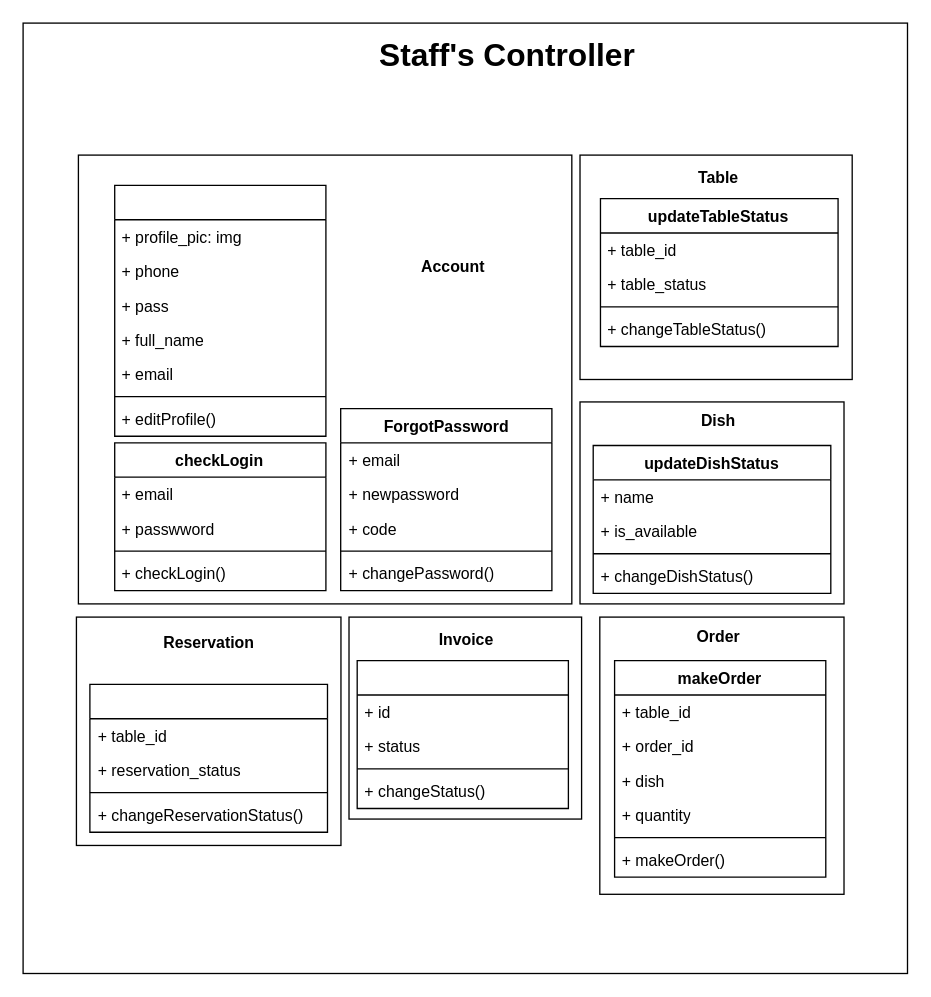
Image size: 931x997. Some labels were removed from this diagram. The shapes that lost their labels are listed below. From the top down, each one's box as (x1, y1, x2, y2) in pixels, then its label:
(113, 184, 326, 436): EditAccountInfo
(356, 659, 568, 808): updateInvoiceStatus
(89, 683, 327, 832): updateReservationStatus
